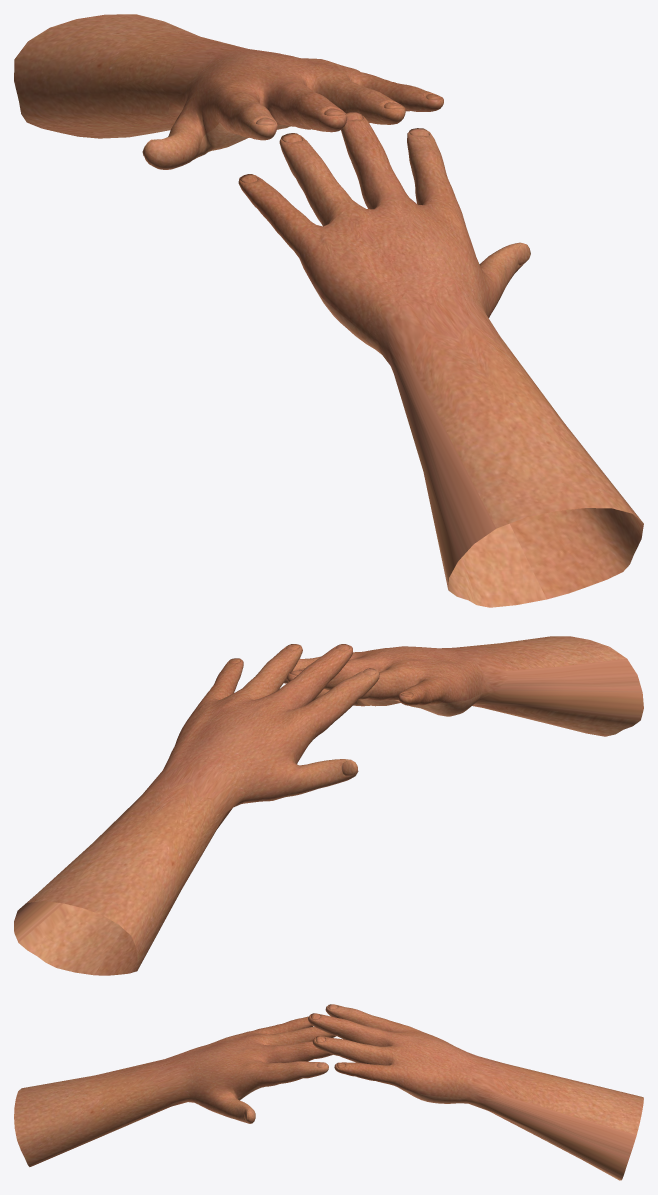
Rendered from hands_000025.obj.
3 views of the same model, one above another, from view 1: azimuth 30°, elevation 25°; view 2: azimuth 150°, elevation 25°; view 3: azimuth 270°, elevation 25° (orthographic). The views are drawn at different scales.
Parts seen in each view (by area): view 1: hand.001_Mesh.001, hand_Mesh; view 2: hand_Mesh, hand.001_Mesh.001; view 3: hand_Mesh, hand.001_Mesh.001.
Part boxes in pixels (box(x1,y1,x2,y2)): hand.001_Mesh.001: box(238, 111, 643, 607); hand_Mesh: box(14, 14, 443, 169); hand_Mesh: box(14, 644, 379, 975); hand.001_Mesh.001: box(284, 636, 643, 736); hand_Mesh: box(308, 1004, 643, 1180); hand.001_Mesh.001: box(14, 1016, 335, 1166).
Bounding box in the file's own units: 1.71 × 1.56 × 5.72.
Materials: 1 (1 with a texture image).
